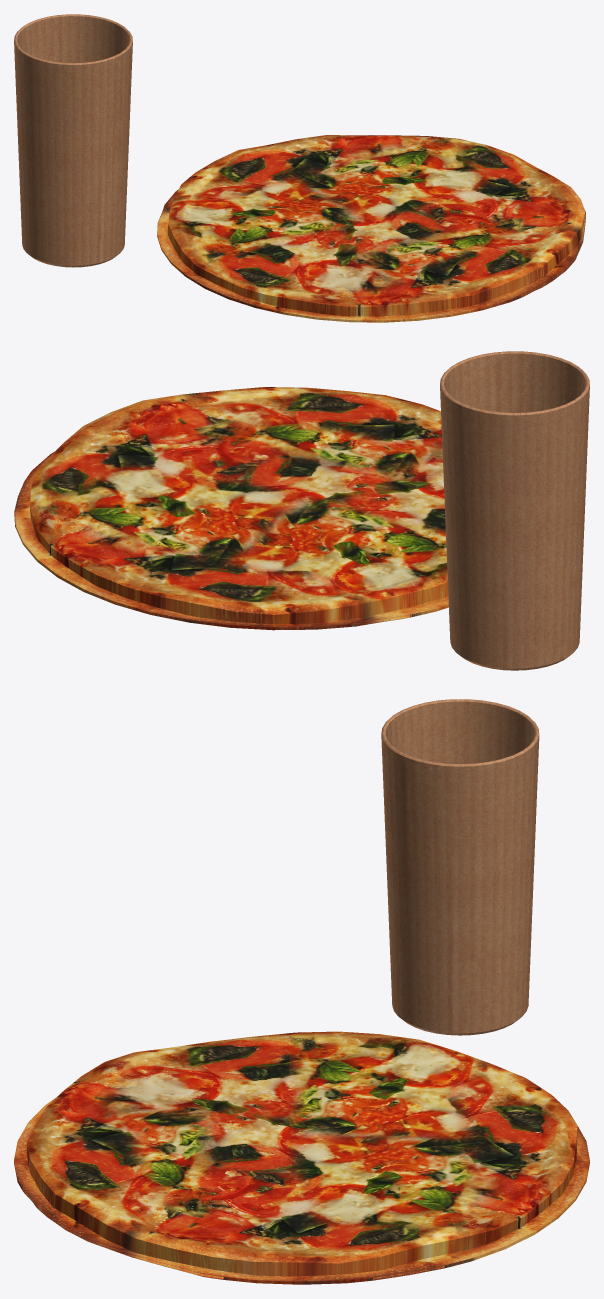
Rendered from Pizza and Juice.obj.
3 renders of one model, top to bottom at view 1: azimuth 30°, elevation 25°; view 2: azimuth 150°, elevation 25°; view 3: azimuth 270°, elevation 25°, orthographic. The views are drawn at different scales.
Parts seen in each view (by area): view 1: pizza, Glass, Pizza_Cardboard; view 2: pizza, Glass, Pizza_Cardboard; view 3: pizza, Glass, Pizza_Cardboard.
Part boxes in pixels (x1,y1,x2,y2): pizza: [167, 135, 585, 316]; Glass: [14, 14, 132, 267]; Pizza_Cardboard: [157, 189, 585, 322]; pizza: [30, 387, 448, 624]; Glass: [440, 351, 589, 670]; Pizza_Cardboard: [14, 451, 448, 630]; pizza: [26, 1031, 577, 1276]; Glass: [381, 699, 539, 1035]; Pizza_Cardboard: [14, 1098, 589, 1284].
Bounding box in the file's own units: 24.1 × 10 × 18.87.
Materials: 2 (2 with a texture image).
